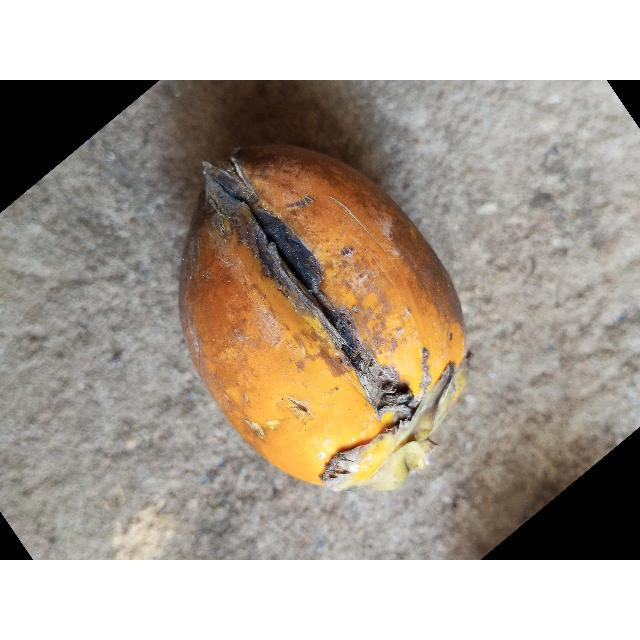damaged: (178, 145, 468, 492)
